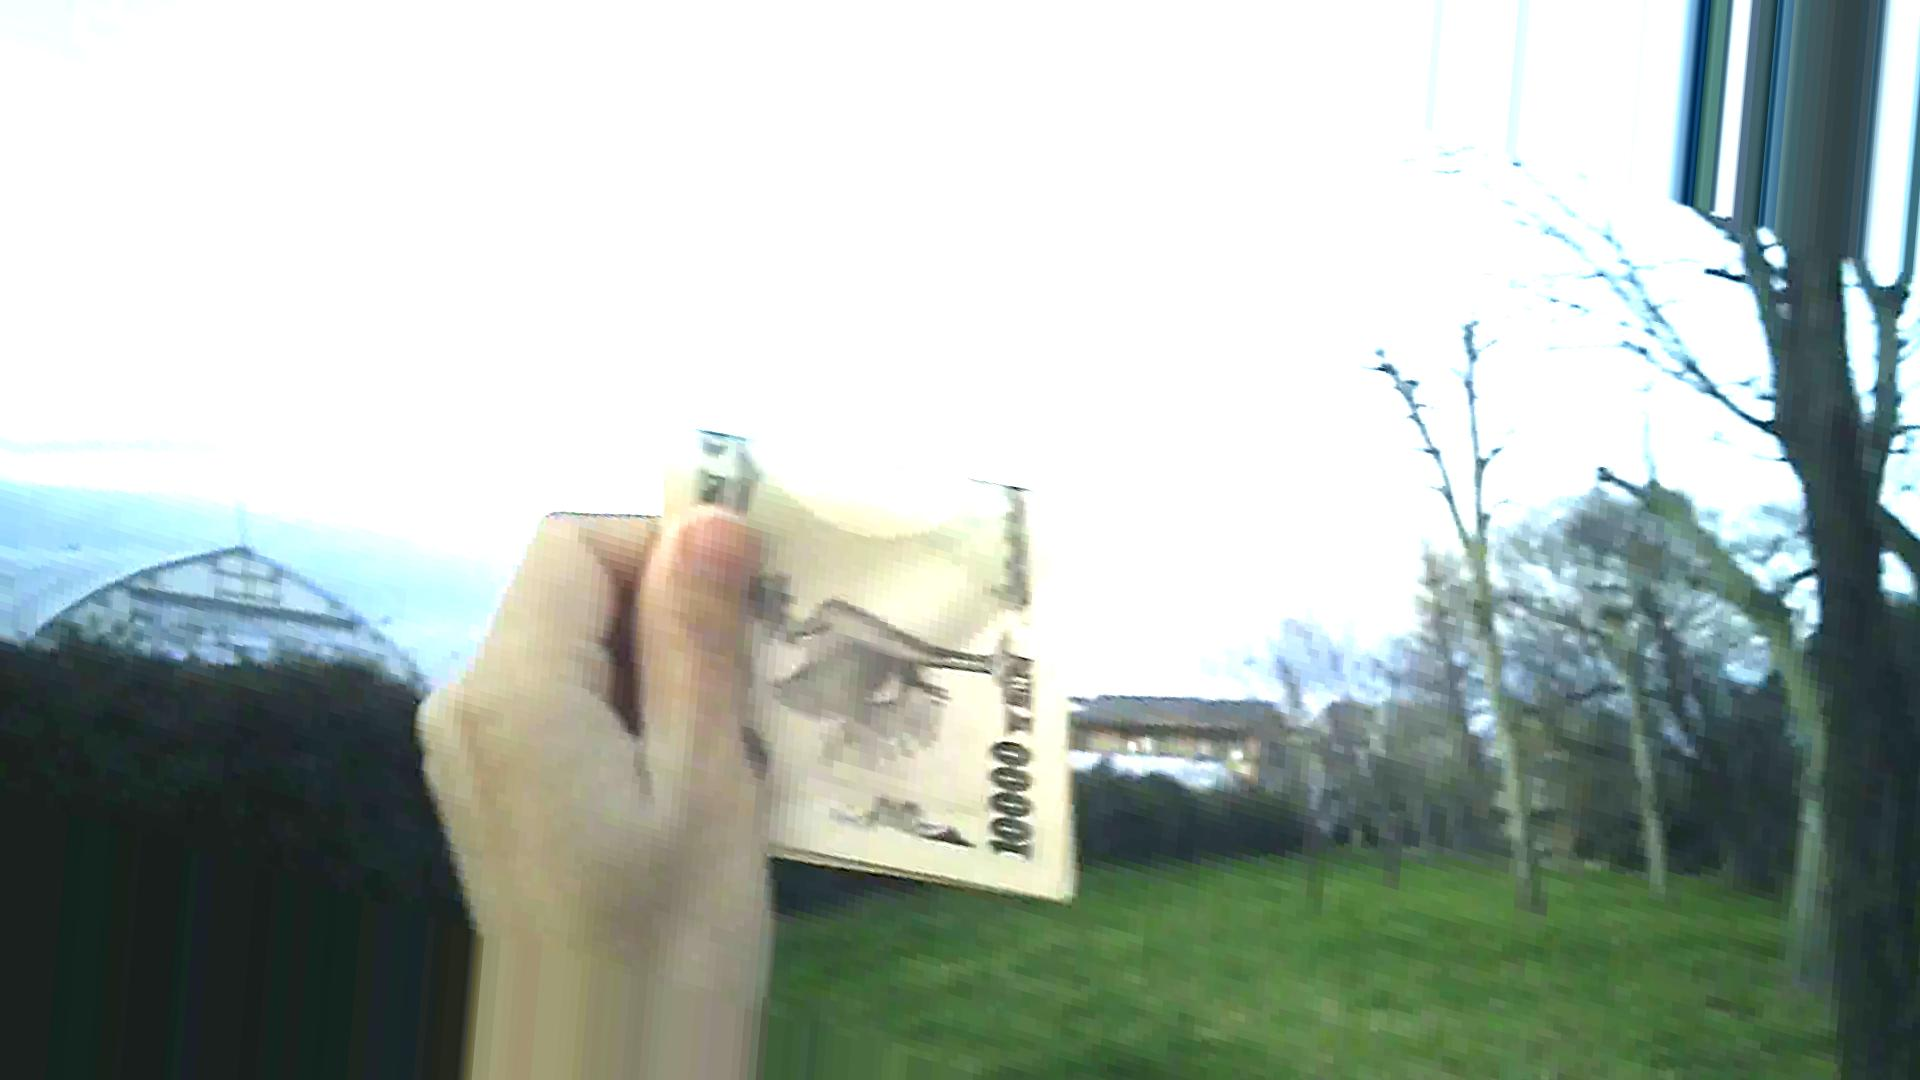10,000 Yen: (615, 414, 1087, 906)
